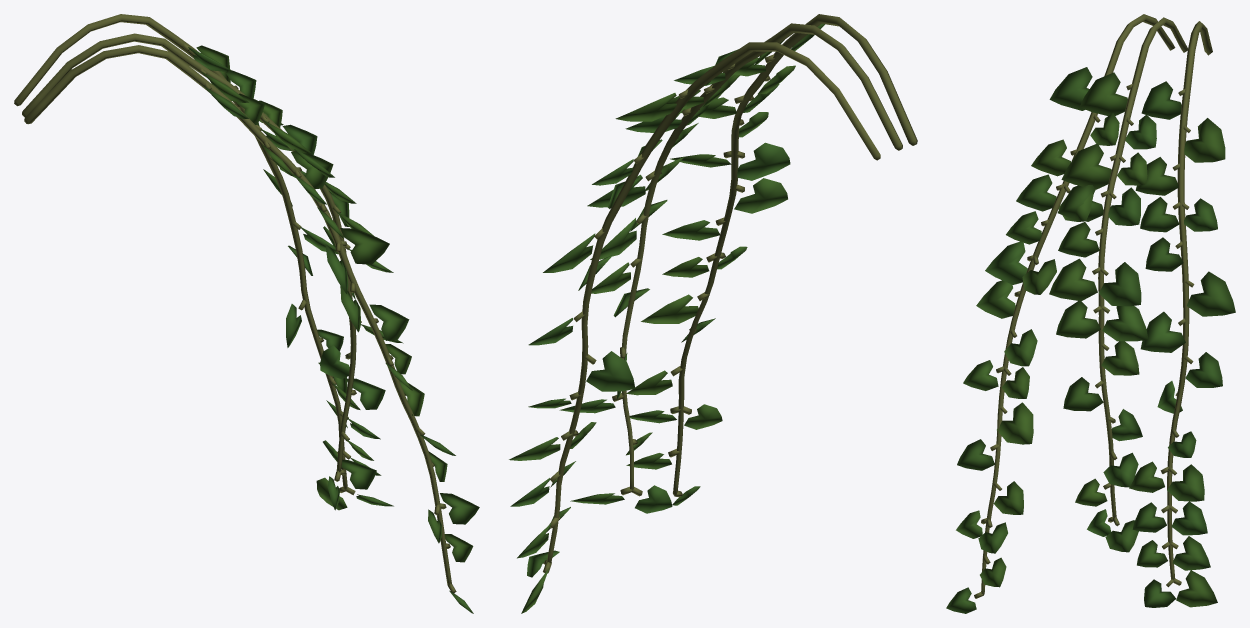
The model's file is rim_ivy_long.glb.
The picture shows the model from 3 angles, left to right: view 1: azimuth 30°, elevation 25°; view 2: azimuth 150°, elevation 25°; view 3: azimuth 270°, elevation 25°; orthographic projection. The views are drawn at different scales.
Visible parts, largest first — view 1: Sammel Pflanze, Sammel Putz; view 2: Sammel Pflanze, Sammel Putz; view 3: Sammel Pflanze, Sammel Putz.
Part boxes in pixels (bbox=[...]): Sammel Pflanze: bbox=[188, 45, 479, 613]; Sammel Putz: bbox=[14, 14, 456, 592]; Sammel Pflanze: bbox=[509, 23, 824, 613]; Sammel Putz: bbox=[543, 14, 917, 573]; Sammel Pflanze: bbox=[946, 67, 1235, 613]; Sammel Putz: bbox=[974, 14, 1212, 598].
Size of the model in its own units: 0.327 by 0.4866 by 0.2607.
